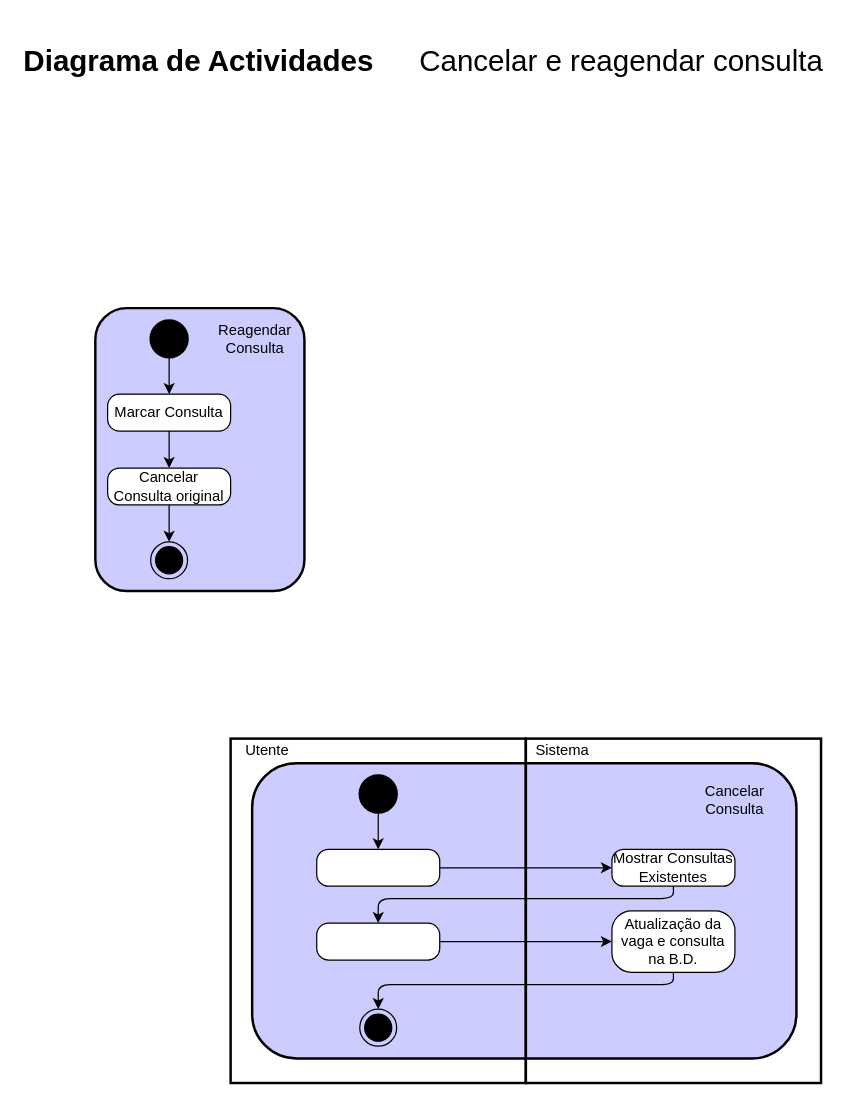
Image size: 846x1105. Some labels were removed from this diagram. Here are the shapes that lost their labels. From the top down, the centre of each, then its label:
At point 377,867: "Pedir Cancelamento".
At point 377,941: "Escolher Consulta para cancelar".
